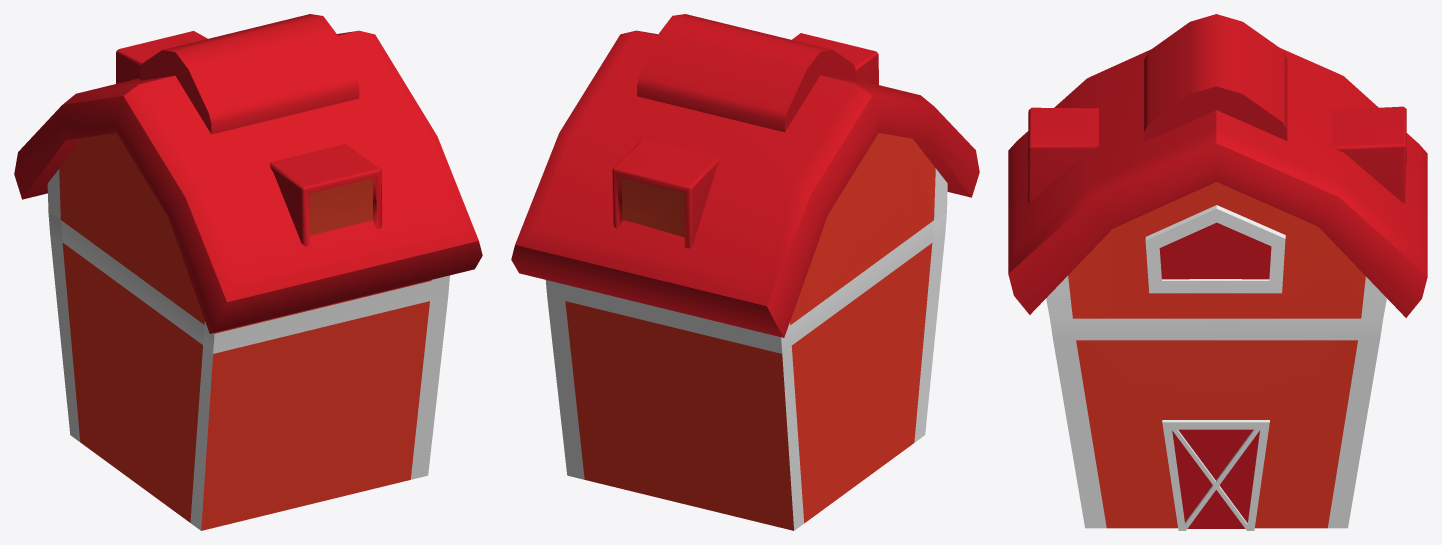
The model's file is islnd3-hause.fbx.
3 renders of one model, left to right at view 1: azimuth 30°, elevation 25°; view 2: azimuth 150°, elevation 25°; view 3: azimuth 270°, elevation 25°, orthographic.
Parts seen in each view (by area): view 1: islnd3-hause; view 2: islnd3-hause; view 3: islnd3-hause.
Boxes of the visible parts, bbox=[...] form: islnd3-hause: bbox=[14, 14, 482, 530]; islnd3-hause: bbox=[511, 14, 979, 530]; islnd3-hause: bbox=[1008, 14, 1427, 530].
Size of the model in its own units: 5.72 by 8.69 by 7.81.
Materials: 1 (1 with a texture image).
